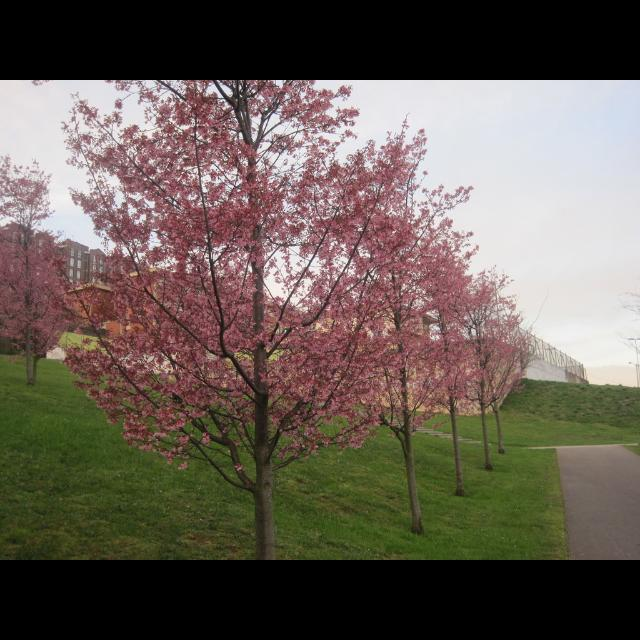Flower: (56, 80, 542, 468), (296, 388, 320, 409)
